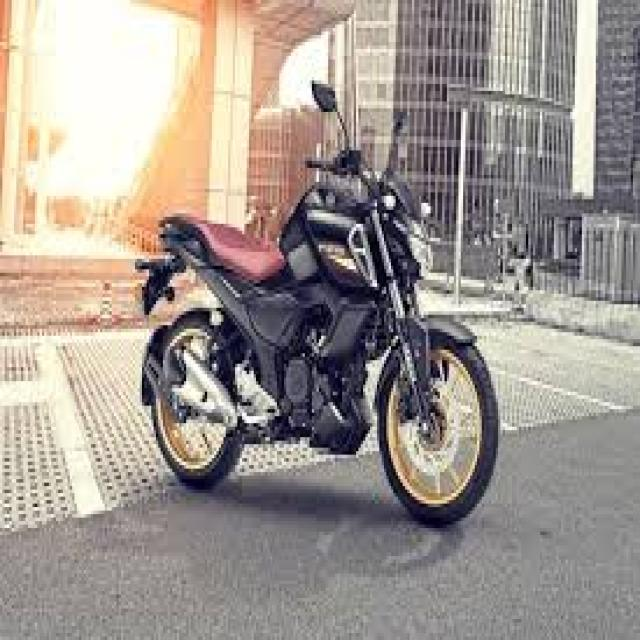bike: (134, 79, 498, 528)
